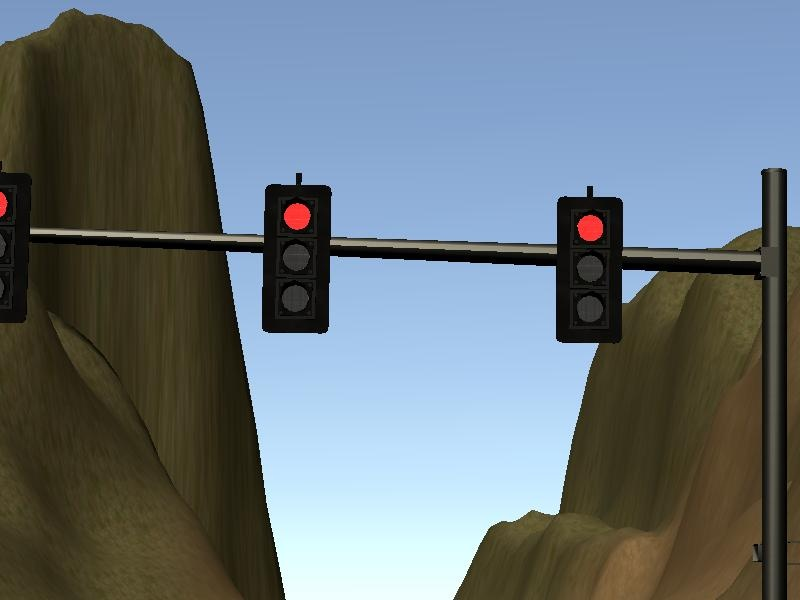RED: (262, 182, 330, 334), (556, 195, 622, 343)
